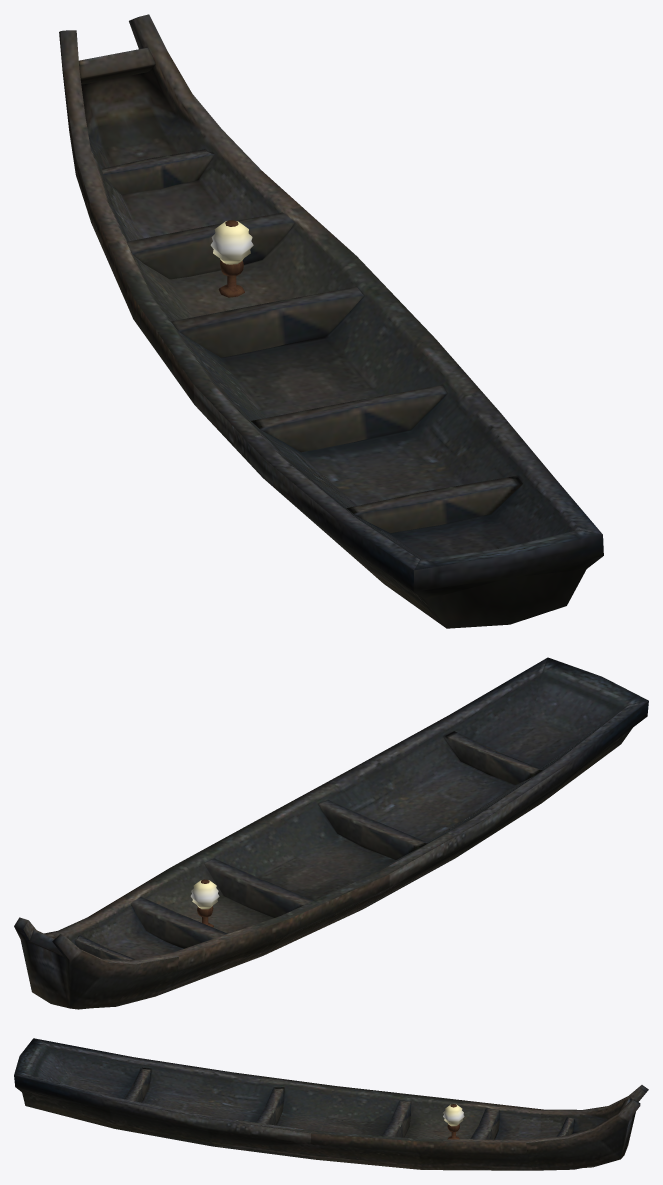
File: xiaochuan.fbx
3 renders of one model, top to bottom at view 1: azimuth 30°, elevation 25°; view 2: azimuth 150°, elevation 25°; view 3: azimuth 270°, elevation 25°, orthographic. The views are drawn at different scales.
Visible parts, largest first — view 1: TY_object_40a, pasted__pasted__pCube4; view 2: TY_object_40a, pasted__pasted__pCube4; view 3: TY_object_40a, pasted__pasted__pCube4.
Part boxes in pixels (x1,y1,x2,y2): TY_object_40a: [59, 14, 603, 628]; pasted__pasted__pCube4: [210, 220, 253, 297]; TY_object_40a: [14, 657, 648, 1009]; pasted__pasted__pCube4: [190, 879, 219, 927]; TY_object_40a: [14, 1038, 648, 1170]; pasted__pasted__pCube4: [443, 1104, 464, 1139].
Size of the model in its own units: 1.5 by 0.7458 by 4.8.
2 materials, 2 textured.
